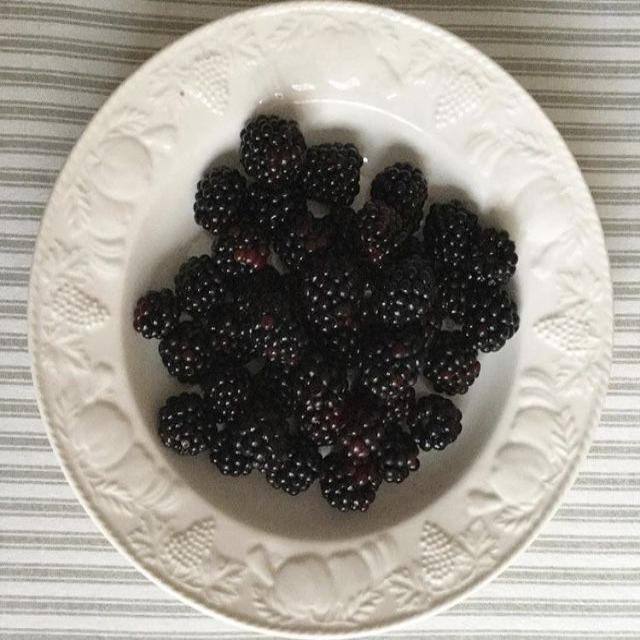raspberry: (232, 266, 307, 366), (360, 327, 433, 401), (298, 252, 362, 333), (274, 206, 352, 270), (365, 255, 434, 327), (294, 351, 346, 445), (240, 114, 306, 186), (424, 200, 479, 275), (300, 143, 362, 204), (321, 449, 381, 511), (423, 330, 479, 395), (158, 393, 216, 455), (193, 167, 246, 234), (463, 288, 518, 351), (244, 182, 306, 237), (232, 412, 287, 471), (267, 435, 321, 495), (159, 321, 212, 382), (212, 219, 269, 275), (356, 200, 405, 263), (250, 312, 307, 366), (202, 304, 252, 363), (201, 364, 249, 425), (373, 162, 427, 216), (467, 228, 517, 286), (175, 254, 224, 313), (339, 397, 384, 461), (409, 395, 461, 450), (134, 288, 180, 338), (377, 426, 418, 482), (210, 430, 252, 475), (437, 271, 469, 324), (384, 387, 414, 425)
